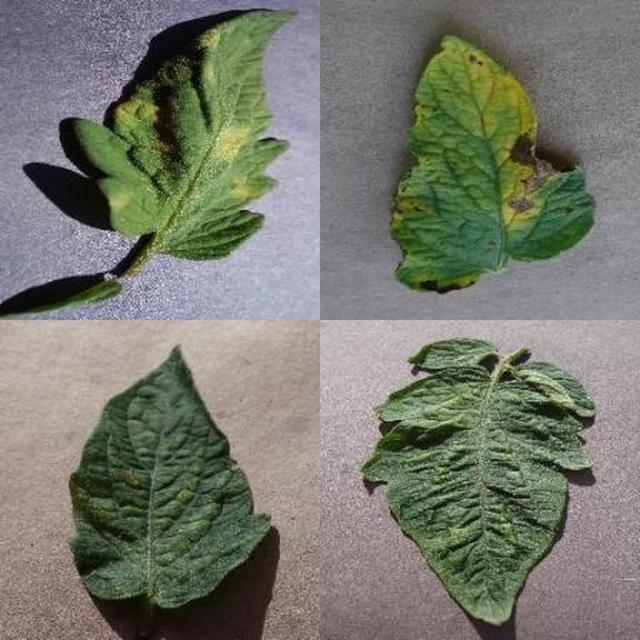Leaf Mold: (243, 193, 640, 640)
